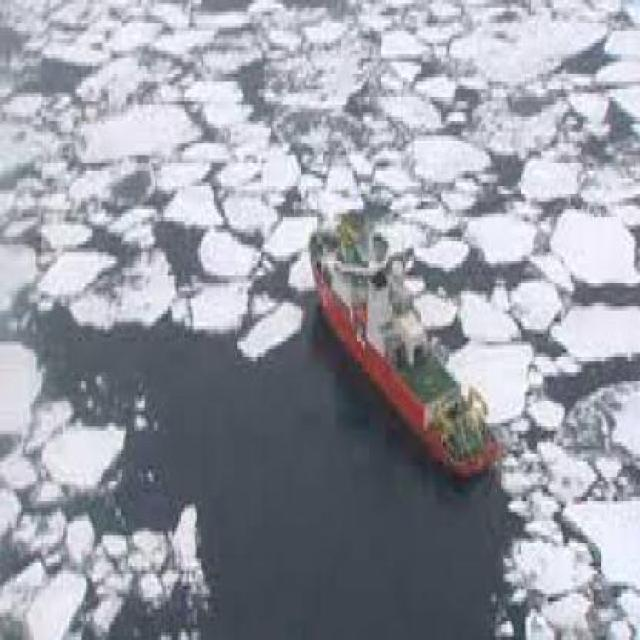fish-b: (305, 179, 509, 510)
